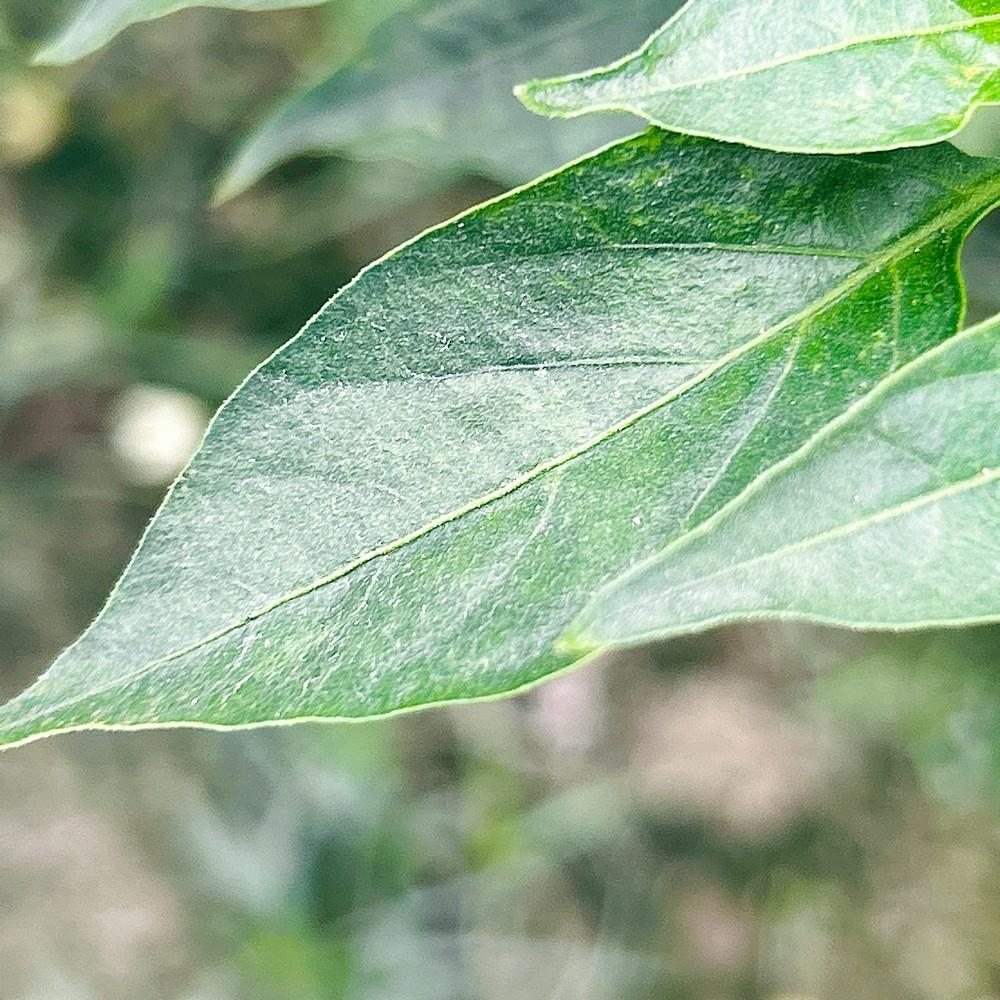Daun Cabai Sehat: (2, 1, 998, 757), (556, 307, 1000, 660), (508, 0, 1000, 155)
